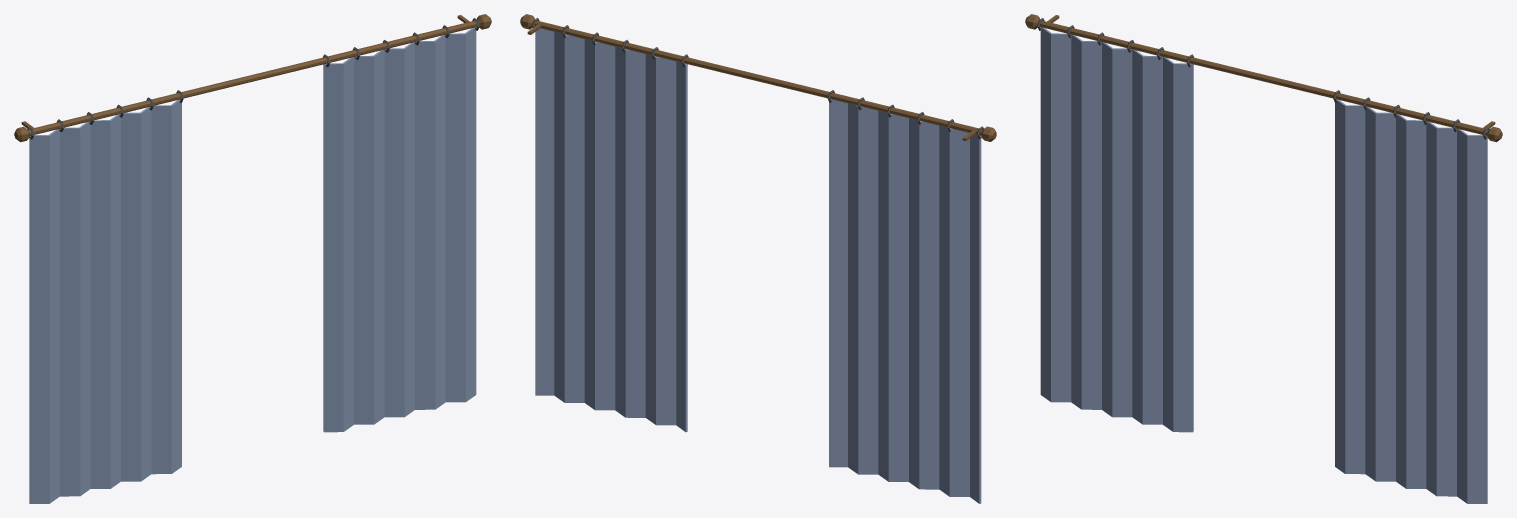
File: Curtains3_C1.fbx
3 views of the same model, side by side, from view 1: azimuth 30°, elevation 25°; view 2: azimuth 150°, elevation 25°; view 3: azimuth 330°, elevation 25° (orthographic).
Parts seen in each view (by area): view 1: Curtains3_C1; view 2: Curtains3_C1; view 3: Curtains3_C1.
Part boxes in pixels (left/top/right/bottom): Curtains3_C1: left=14, top=14, right=491, bottom=503; Curtains3_C1: left=520, top=14, right=996, bottom=503; Curtains3_C1: left=1025, top=14, right=1502, bottom=503.
Size of the model in its own units: 233 by 178 by 14.03.
